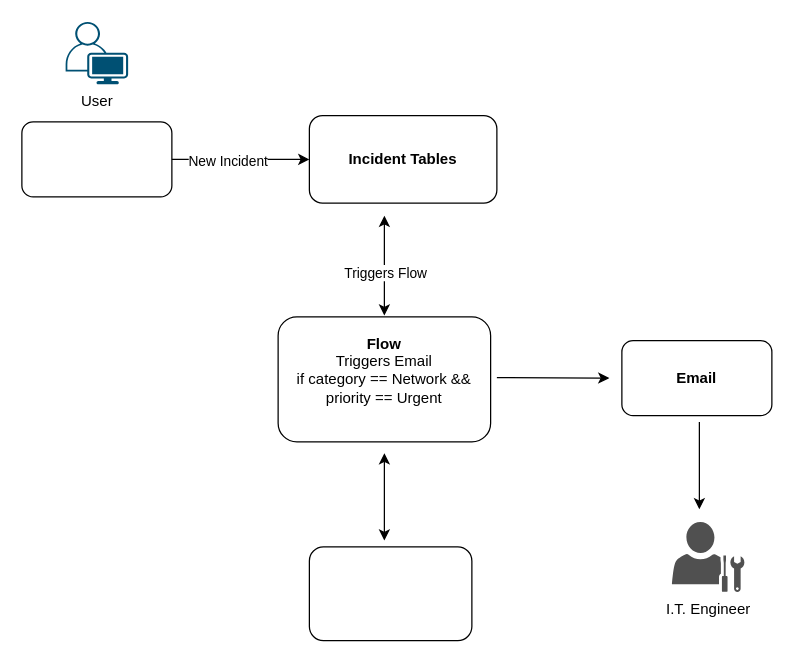
The diagram is 794 pixels wide and 663 high, and some of its shapes have lost their labels. The shapes that lost their labels are listed below. From the top down, each one's centre as x and y in pixels, then its label:
point 96,159: Web Browser / Service Now Incident Form
point 390,593: Notification Template Text, User Group
